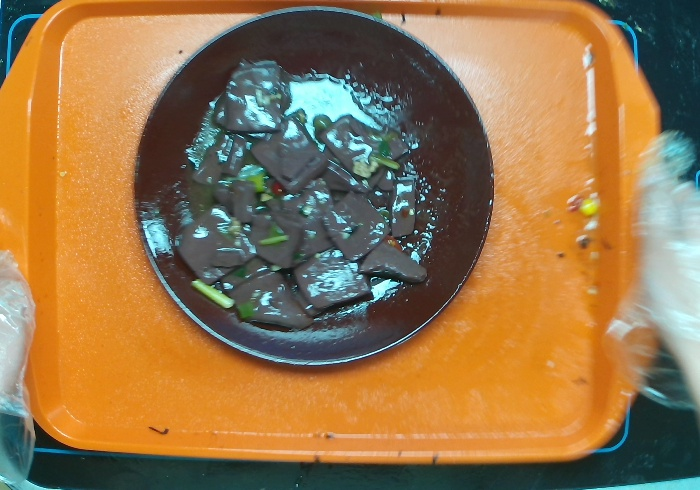HZYJPL-Ka_Fei_Yuan_Pan: (131, 6, 496, 368)
